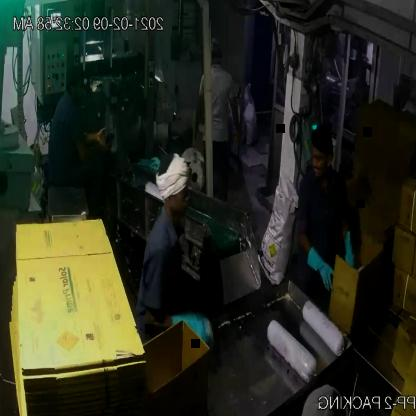glove: (161, 295, 230, 353), (300, 246, 341, 297), (333, 222, 363, 282)
no_glove: (68, 136, 118, 166), (75, 114, 116, 149), (227, 92, 248, 149)
